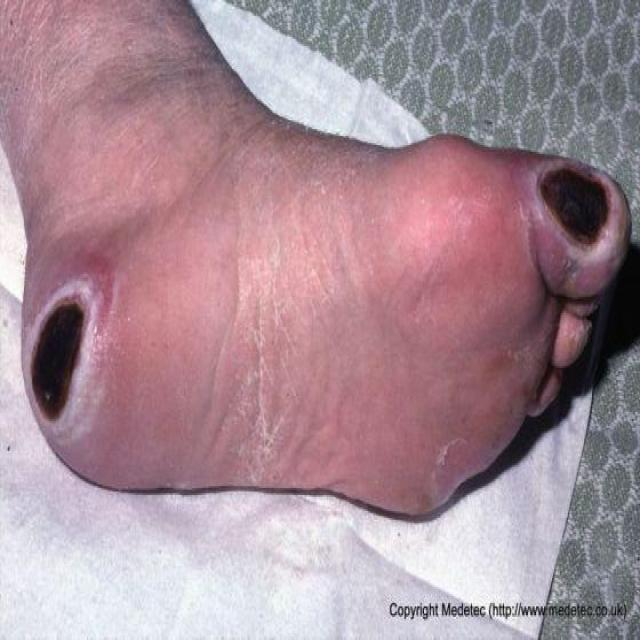Unstageable: (24, 278, 102, 438), (535, 164, 624, 254)
